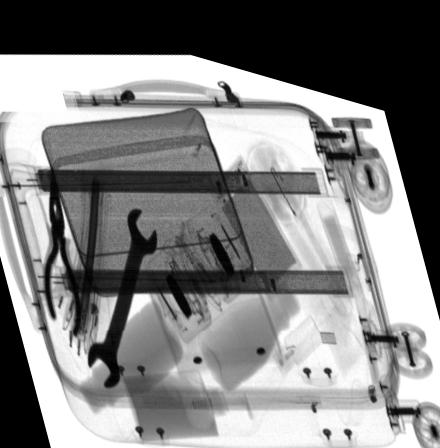Pliers: (42, 162, 81, 331)
Powerbank: (207, 137, 303, 287)
Wrench: (88, 200, 159, 383)
